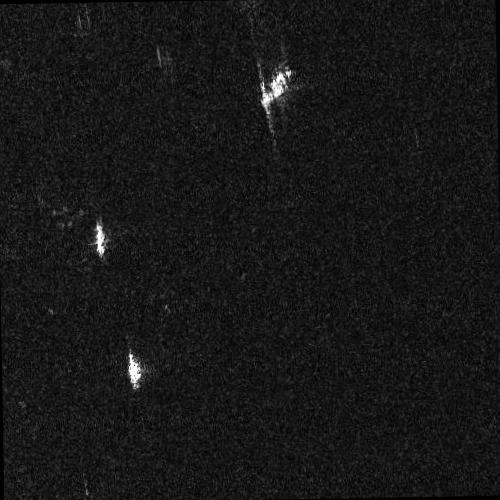ship: (260, 68, 292, 110), (127, 351, 143, 392), (94, 219, 107, 260)
